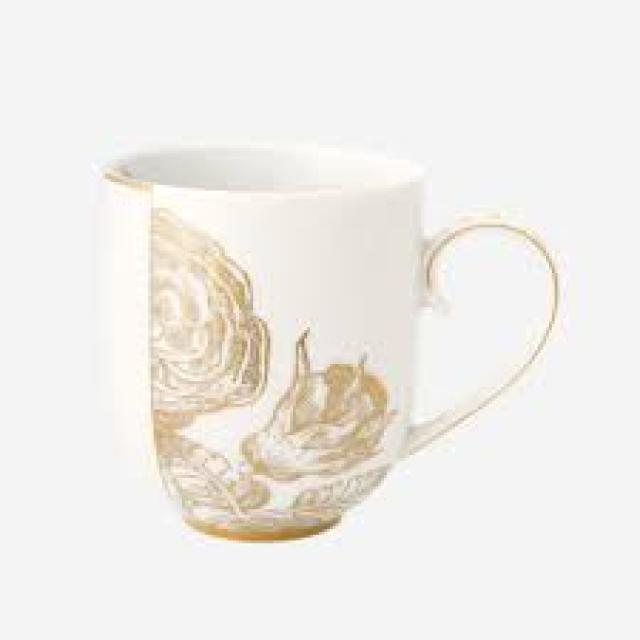taza: (91, 144, 558, 543)
